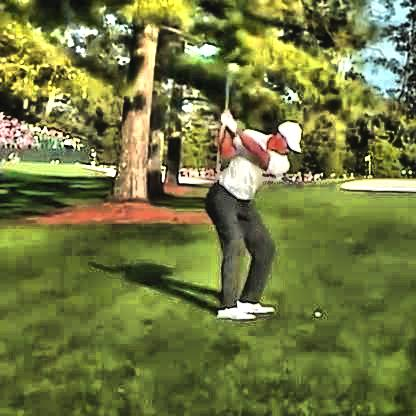golfball: (310, 308, 317, 315)
